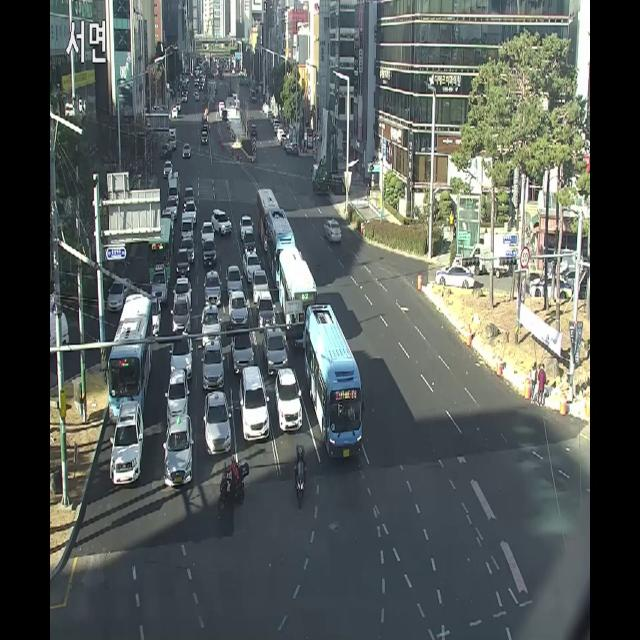bus: (216, 454, 250, 516), (288, 440, 312, 507)
car: (302, 302, 374, 462), (103, 288, 157, 420), (274, 242, 320, 348)
motorcycle: (108, 399, 148, 491), (237, 363, 272, 444), (164, 411, 195, 491), (273, 366, 305, 435), (203, 389, 233, 458), (432, 262, 478, 294), (320, 215, 345, 248), (182, 140, 192, 160)
